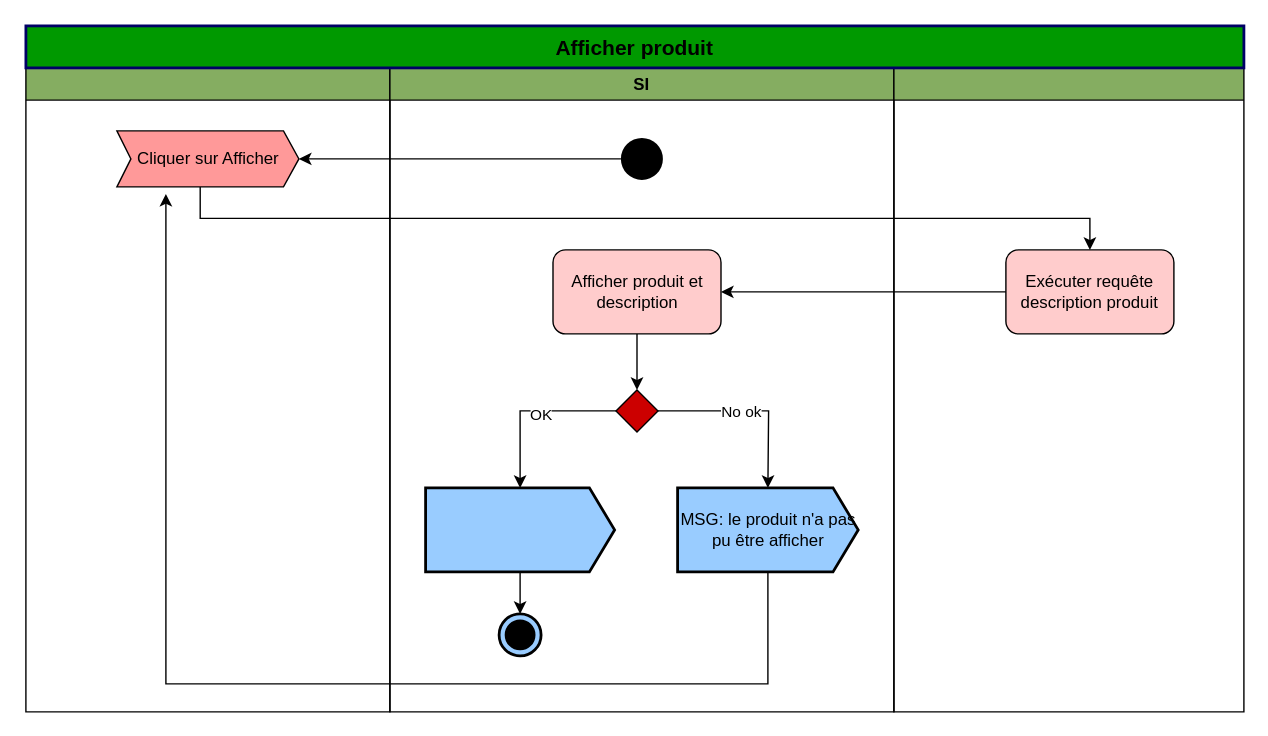
The diagram is 1268 pixels wide and 736 high, and some of its shapes have lost their labels. Here are the shapes that lost their labels. From the top down, the box of each, then its label:
(24, 66, 390, 712): Utilisateur connectés
(892, 66, 1244, 712): BDD
(424, 486, 615, 573): MSG: Le produit est afficher
